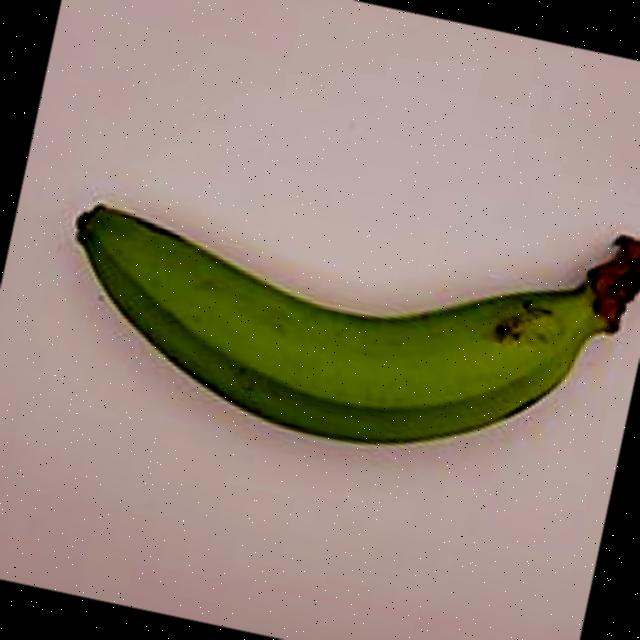Raw: (17, 86, 640, 515)
